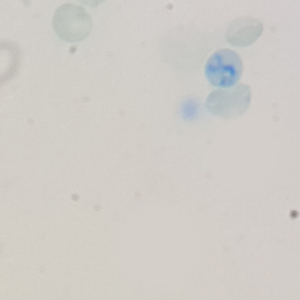aggregate reticulocyte: (202, 48, 245, 89)
erythrocyte: (203, 84, 253, 121), (51, 2, 95, 44), (223, 15, 266, 48)
